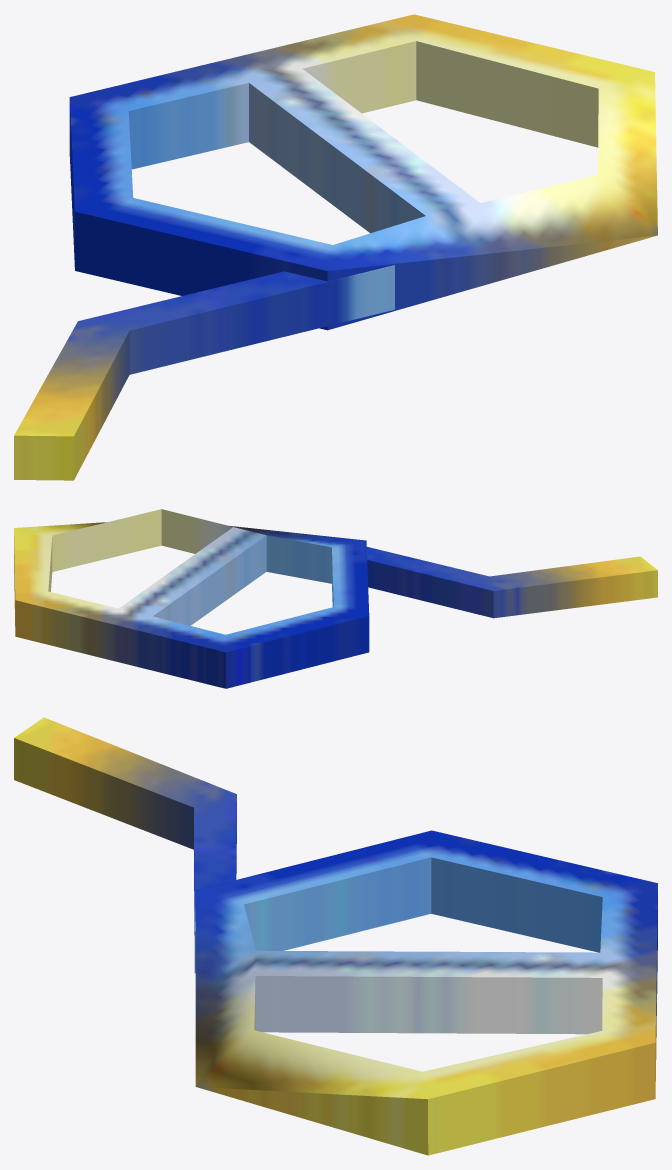
The picture shows the model from 3 angles, top to bottom: view 1: azimuth 30°, elevation 25°; view 2: azimuth 150°, elevation 25°; view 3: azimuth 270°, elevation 25°; orthographic projection. The views are drawn at different scales.
Visible parts, largest first — view 1: aw223; view 2: aw223; view 3: aw223.
Boxes of the visible parts, <box> form: aw223: <box>14,14,657,480</box>; aw223: <box>14,509,657,688</box>; aw223: <box>14,717,657,1155</box>.
Size of the model in its own units: 13.91 by 0.934 by 9.66.
Materials: 1 (1 with a texture image).
